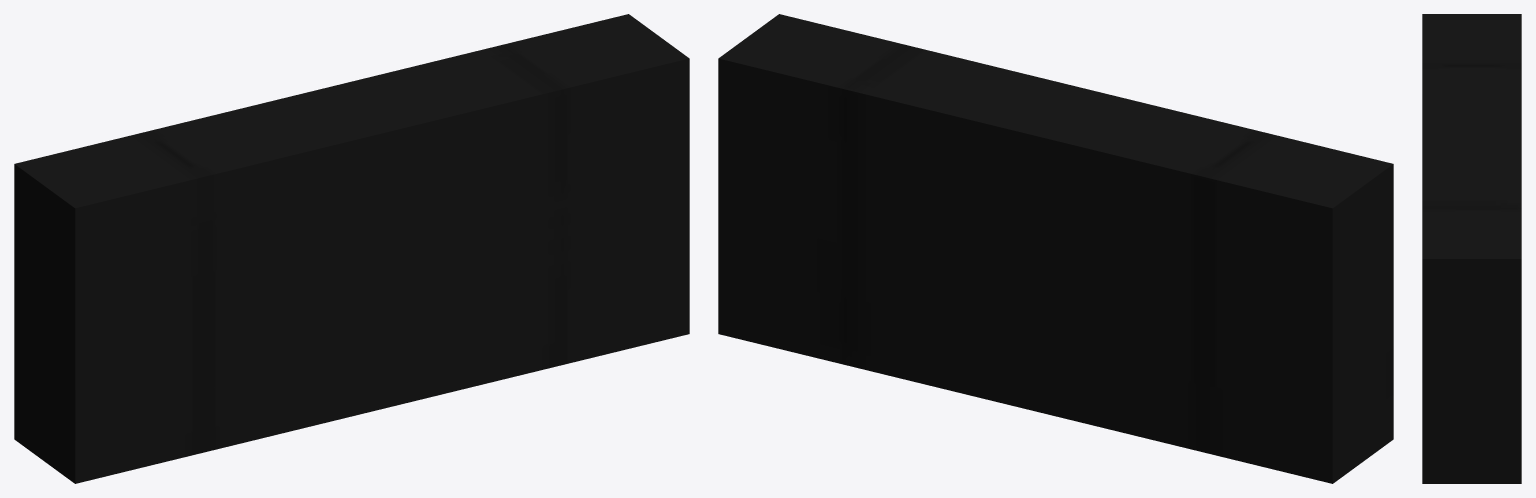
Rendered from frame__front_floor_pad_0.glb.
The picture shows the model from 3 angles, left to right: view 1: azimuth 30°, elevation 25°; view 2: azimuth 150°, elevation 25°; view 3: azimuth 270°, elevation 25°; orthographic projection. The views are drawn at different scales.
Visible parts, largest first — view 1: world; view 2: world; view 3: world.
Part boxes in pixels (x1,y1,x2,y2): world: (14,14,689,483); world: (718,14,1393,483); world: (1422,14,1521,483).
Bounding box in the file's own units: 0.07 × 0.03 × 0.012.
1 material, 1 textured.
